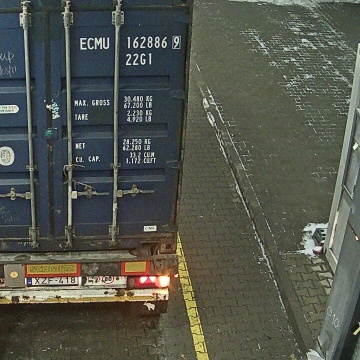serial_id: (80, 36, 179, 49)
